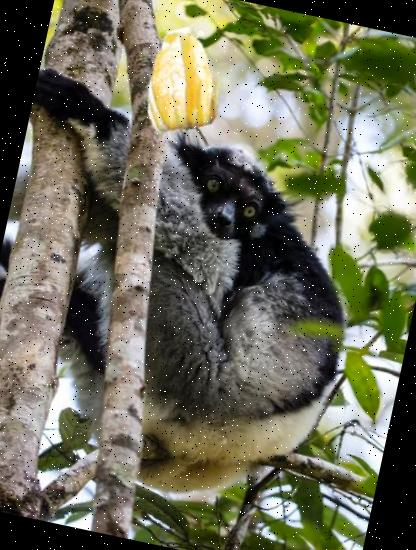Physalis: (119, 22, 239, 142)
